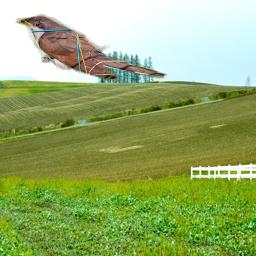Cuckoo: (15, 12, 169, 87)
